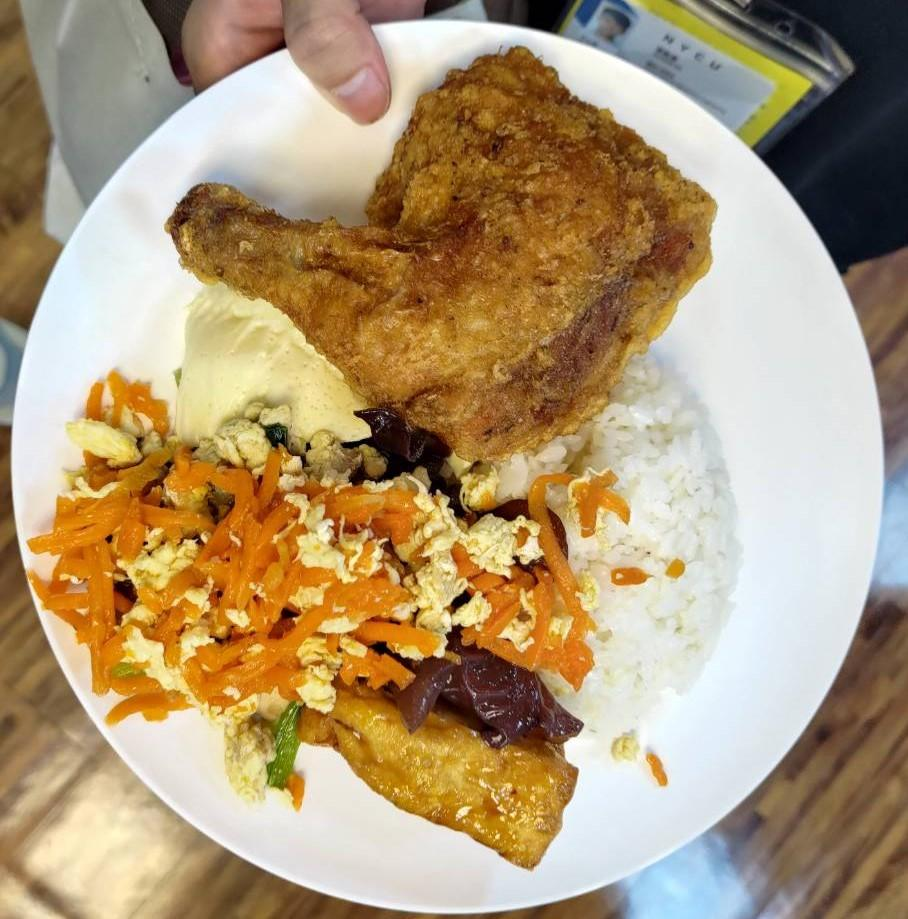big fried chicken leg: (10, 6, 897, 919)
big herbal chicken leg: (498, 358, 738, 716)
braised fish fillet: (54, 378, 599, 719), (300, 662, 578, 865), (164, 286, 370, 448)
brown rice: (156, 46, 717, 457)
